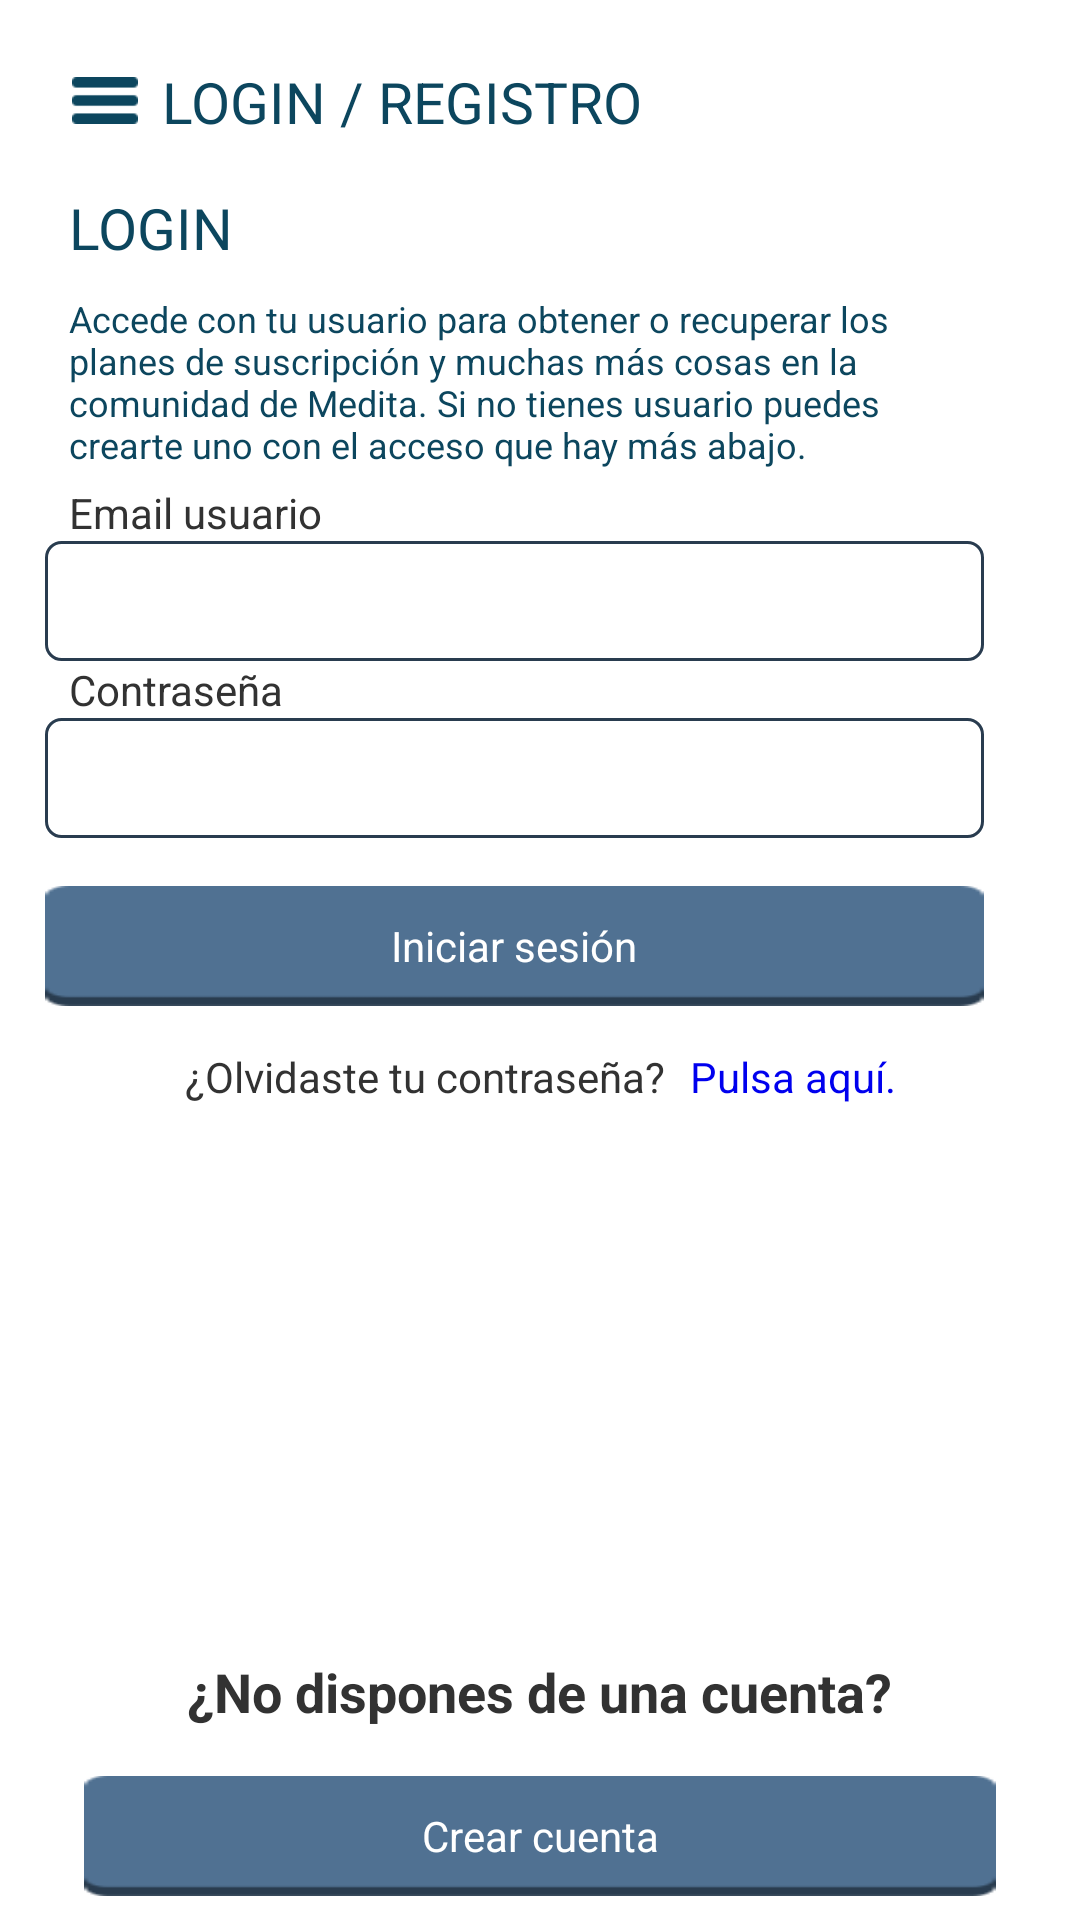

Named icons in this screenshot (1080px x 1920px) and their bounding boxes, (x1, y1, x2, y2):
hamburguesa: (72, 77, 138, 124)
